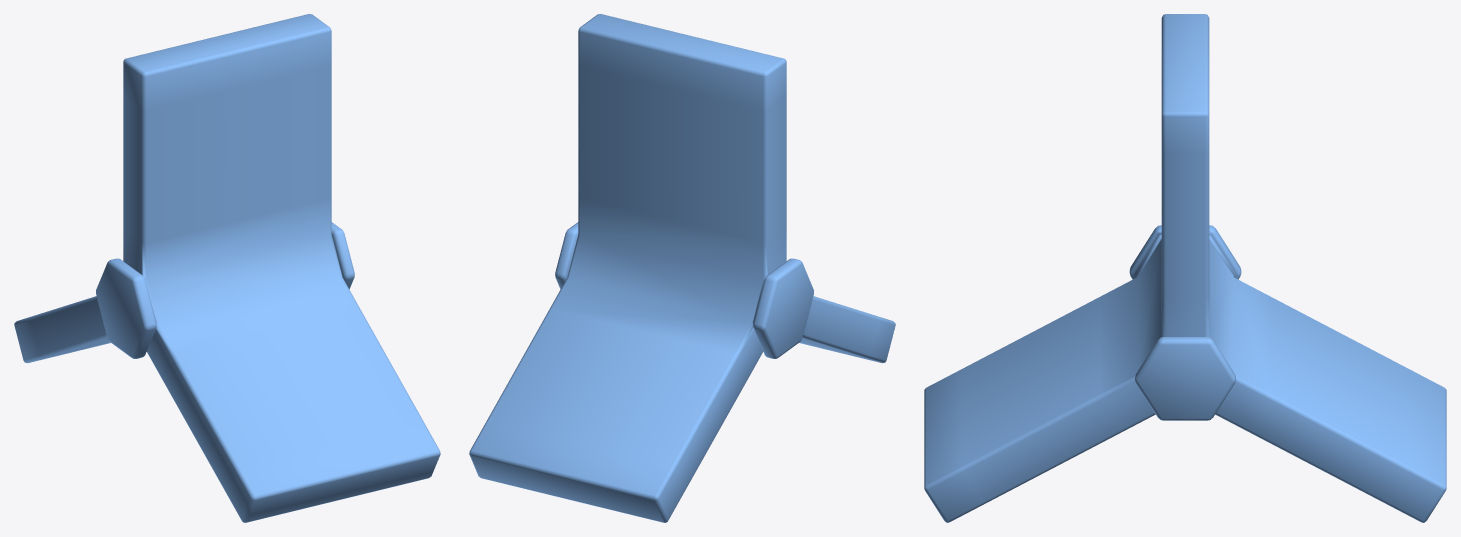
Rendered from trap_platform3facesvertical_2.glb.
3 views of the same model, side by side, from view 1: azimuth 30°, elevation 25°; view 2: azimuth 150°, elevation 25°; view 3: azimuth 270°, elevation 25° (orthographic). The views are drawn at different scales.
Parts seen in each view (by area): view 1: Cylinder.005_visual; view 2: Cylinder.005_visual; view 3: Cylinder.005_visual.
Boxes of the visible parts, x1,y1,x2,y2 form: Cylinder.005_visual: (14,14,440,522); Cylinder.005_visual: (469,14,895,522); Cylinder.005_visual: (924,14,1446,522).
Size of what is drawn, in the model's own units: 5.18 by 8.75 by 10.08.
1 material, 1 textured.
